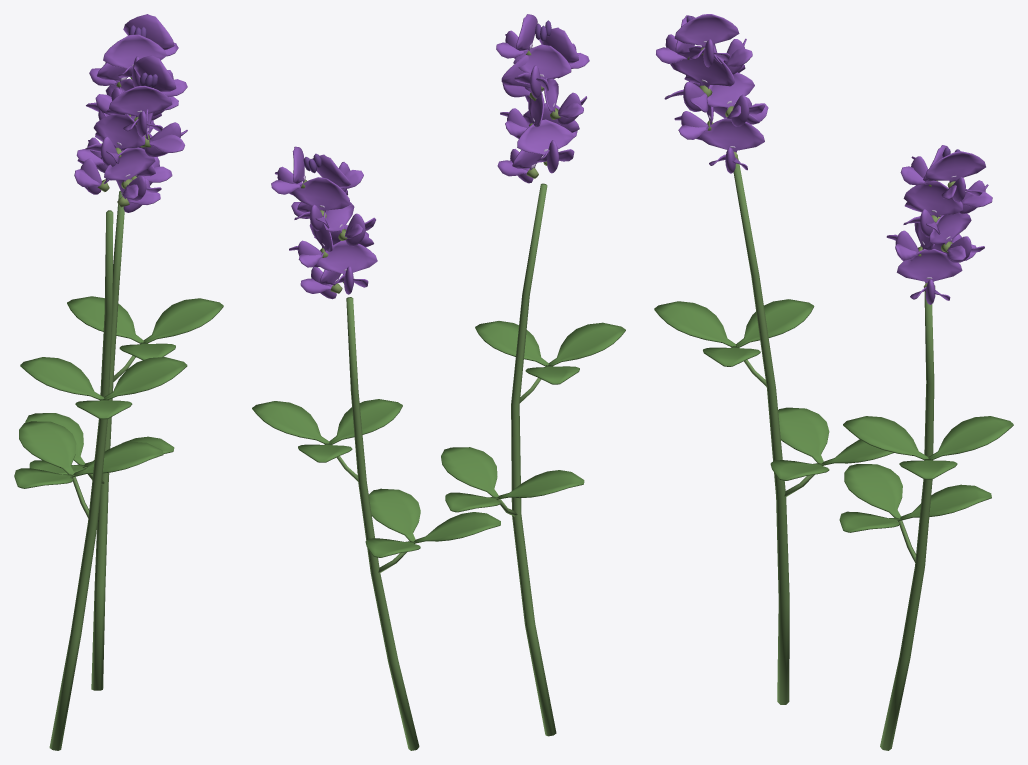
File: flower-medicago-low.glb
The picture shows the model from 3 angles, left to right: view 1: azimuth 30°, elevation 25°; view 2: azimuth 150°, elevation 25°; view 3: azimuth 270°, elevation 25°; orthographic projection. The views are drawn at different scales.
Visible parts, largest first — view 1: leaves, raceme_florets, stems, hero_wings_keel; view 2: raceme_florets, leaves, stems; view 3: leaves, raceme_florets, stems, hero_petals, hero_wings_keel.
Boxes of the visible parts, x1,y1,x2,y2 form: leaves: (14, 296, 223, 517); raceme_florets: (74, 14, 187, 212); stems: (49, 191, 124, 750); hero_wings_keel: (144, 122, 187, 156); raceme_florets: (271, 14, 589, 299); leaves: (252, 321, 625, 572); stems: (346, 183, 556, 750); leaves: (654, 299, 1013, 562); raceme_florets: (656, 14, 992, 304); stems: (733, 158, 934, 750); hero_petals: (670, 45, 734, 88); hero_wings_keel: (664, 82, 708, 112).
Bounding box in the file's own units: 5.34 × 13.16 × 5.96.
